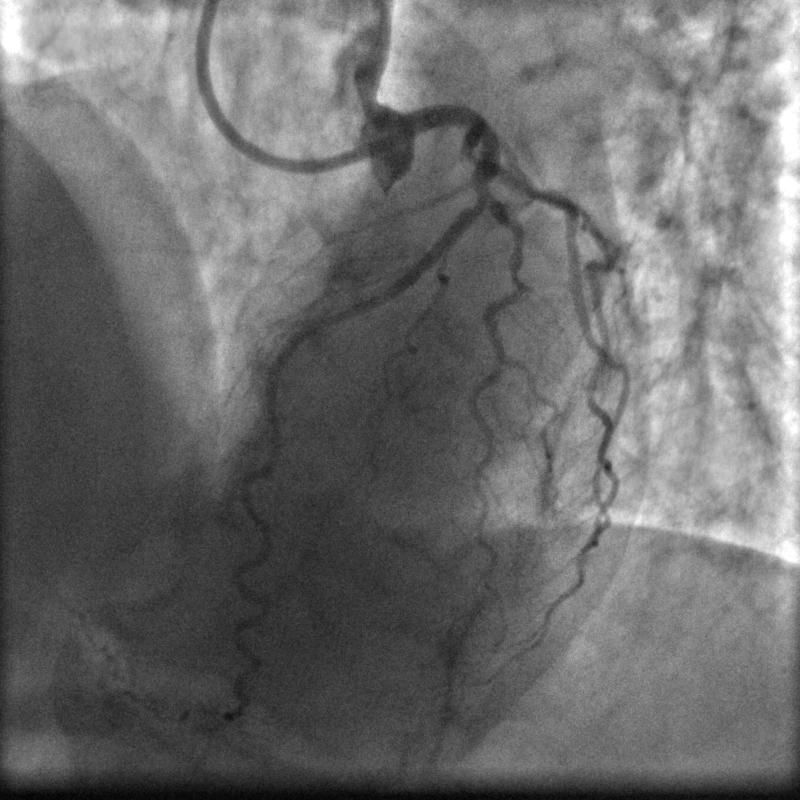Stenosis: (468, 183, 501, 206)
